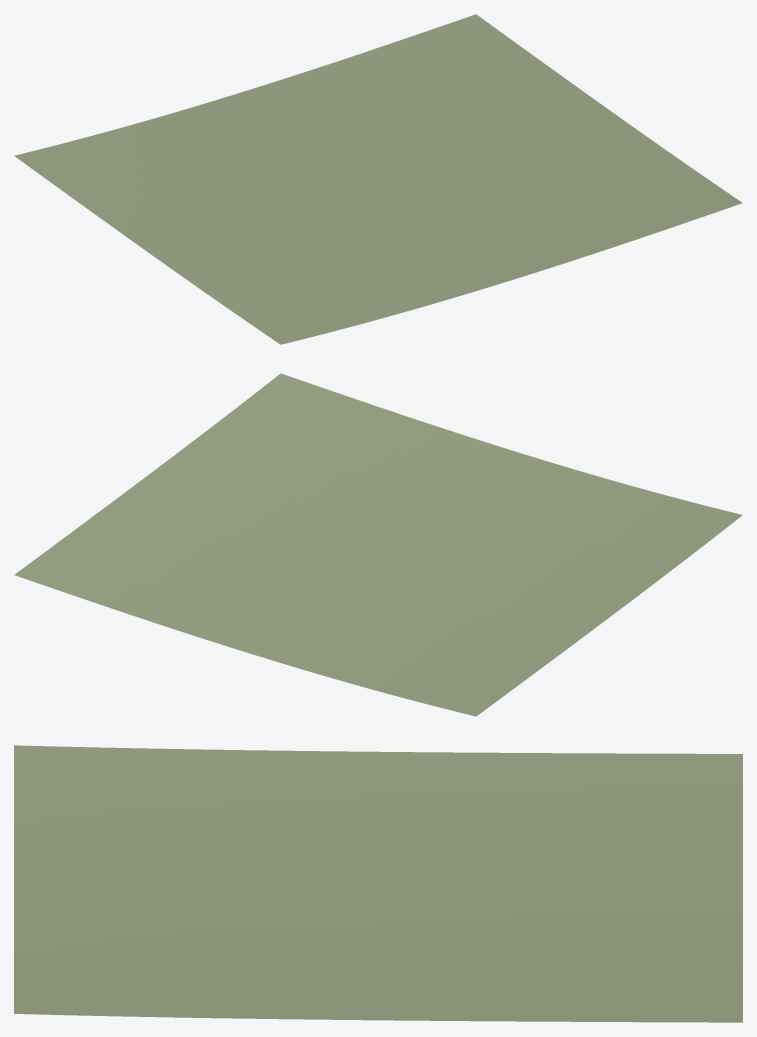
The model's file is valley-0-11.glb.
3 renders of one model, top to bottom at view 1: azimuth 30°, elevation 25°; view 2: azimuth 150°, elevation 25°; view 3: azimuth 270°, elevation 25°, orthographic. The views are drawn at different scales.
Parts seen in each view (by area): view 1: valley-0-11; view 2: valley-0-11; view 3: valley-0-11.
Part boxes in pixels (x1,y1,x2,y2): valley-0-11: [14, 14, 742, 344]; valley-0-11: [14, 373, 742, 716]; valley-0-11: [14, 745, 742, 1022].
Size of the model in its own units: 256 by 18.68 by 256.
